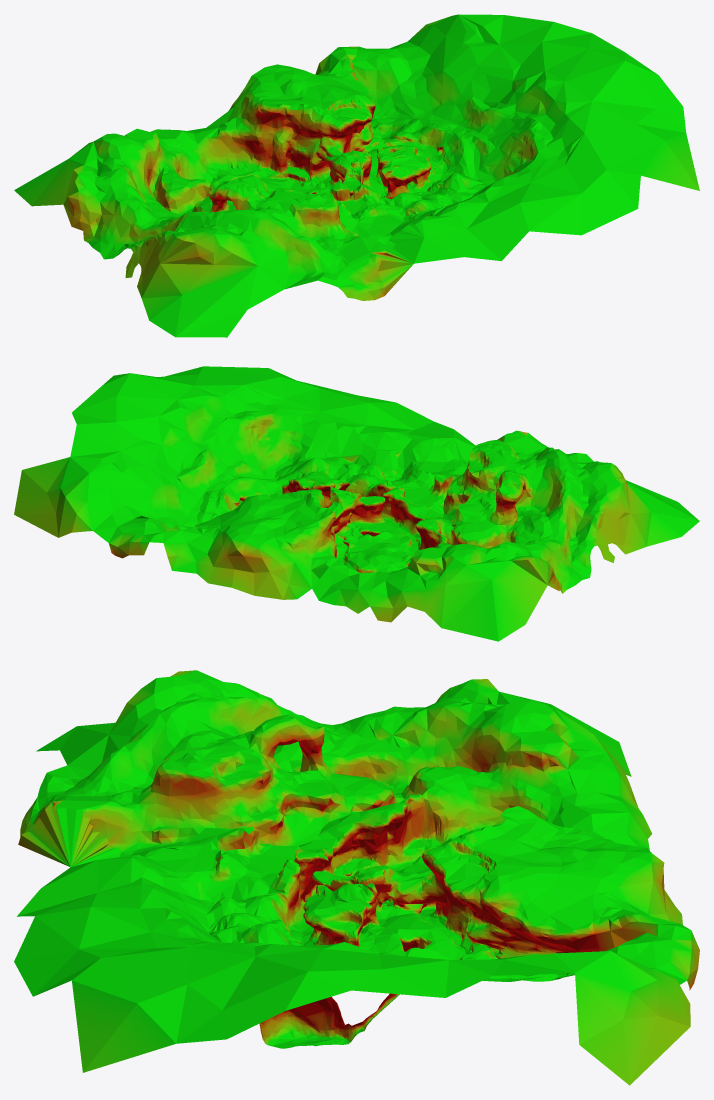
File: abandoned-aqueduct.glb
3 views of the same model, one above another, from view 1: azimuth 30°, elevation 25°; view 2: azimuth 150°, elevation 25°; view 3: azimuth 270°, elevation 25° (orthographic). The views are drawn at different scales.
Visible parts, largest first — view 1: abandoned-aqueduct-terrain; view 2: abandoned-aqueduct-terrain; view 3: abandoned-aqueduct-terrain.
Boxes of the visible parts, <box> form: abandoned-aqueduct-terrain: <box>14,14,699,337</box>; abandoned-aqueduct-terrain: <box>14,366,699,641</box>; abandoned-aqueduct-terrain: <box>14,670,699,1085</box>.
Size of the model in its own units: 0.00224 by 0.00045 by 0.00164.
